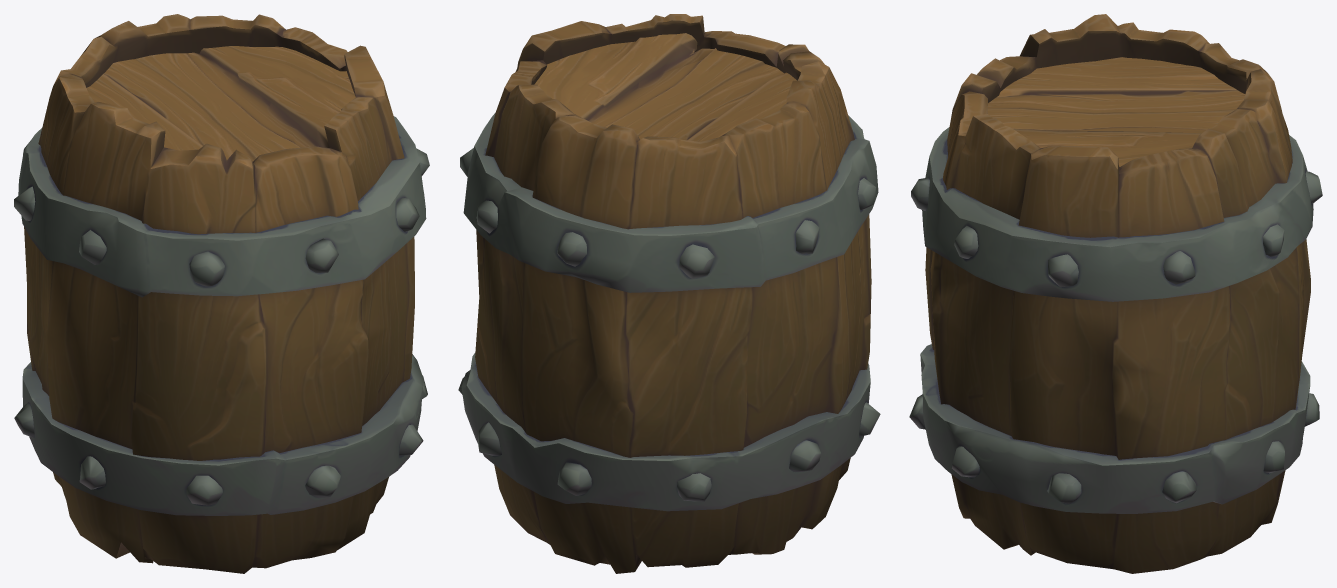
File: SM_FW01_Barrel_A_02.fbx
3 renders of one model, left to right at view 1: azimuth 30°, elevation 25°; view 2: azimuth 150°, elevation 25°; view 3: azimuth 270°, elevation 25°, orthographic. The views are drawn at different scales.
Parts seen in each view (by area): view 1: SM_FW01_Barrel_A_02_LOD0; view 2: SM_FW01_Barrel_A_02_LOD0; view 3: SM_FW01_Barrel_A_02_LOD0.
Boxes of the visible parts, x1,y1,x2,y2 form: SM_FW01_Barrel_A_02_LOD0: (14, 14, 429, 573); SM_FW01_Barrel_A_02_LOD0: (458, 14, 880, 573); SM_FW01_Barrel_A_02_LOD0: (909, 14, 1322, 573).
Size of what is drawn, in the model's own units: 0.9544 by 1.15 by 0.9956.
